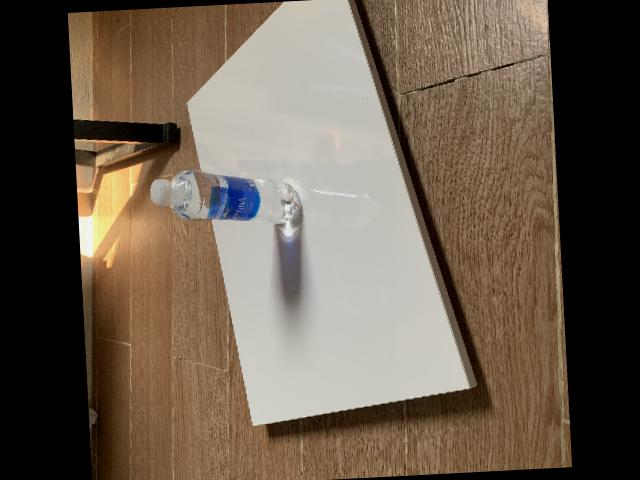aquafina: (150, 168, 298, 223)
